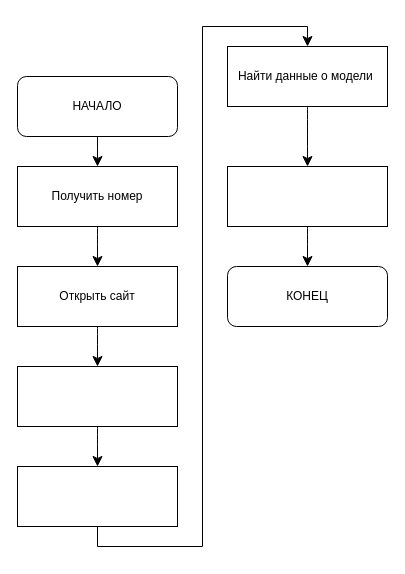
This 405x574 diagram has some shape labels left out. Here are the shapes that lost their labels. From the top down, the centre of each, then its label:
the point at 307,196: Получить данные
the point at 97,396: Найти поле ввода
the point at 97,496: Отправить запрос
